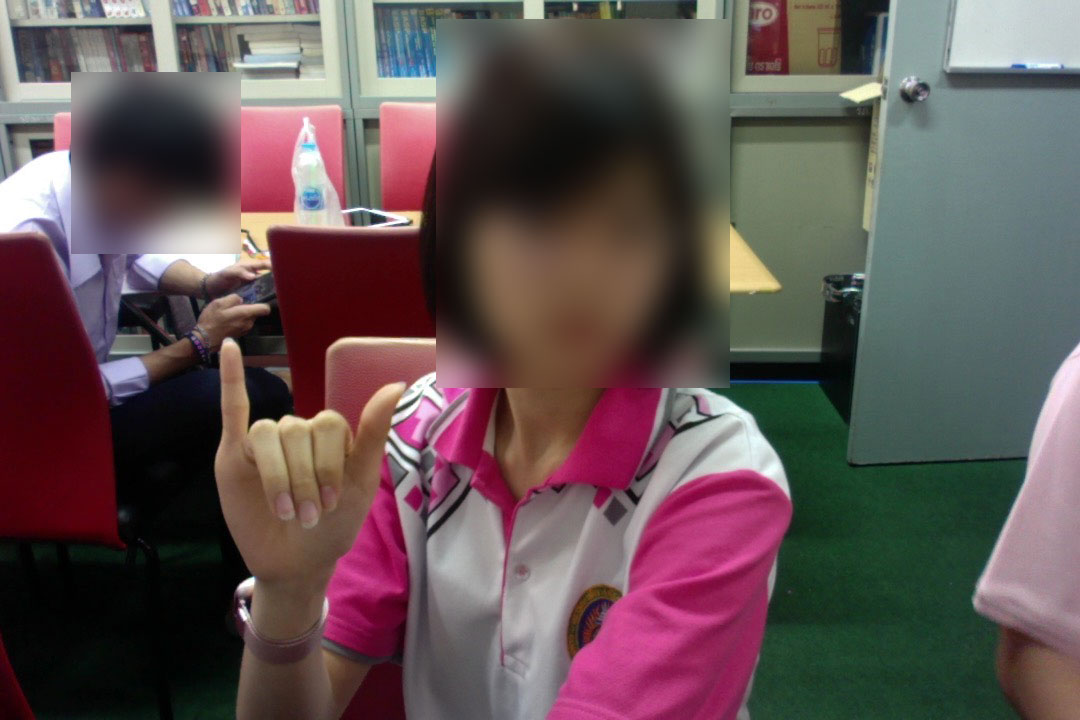yor: (205, 328, 414, 610)
